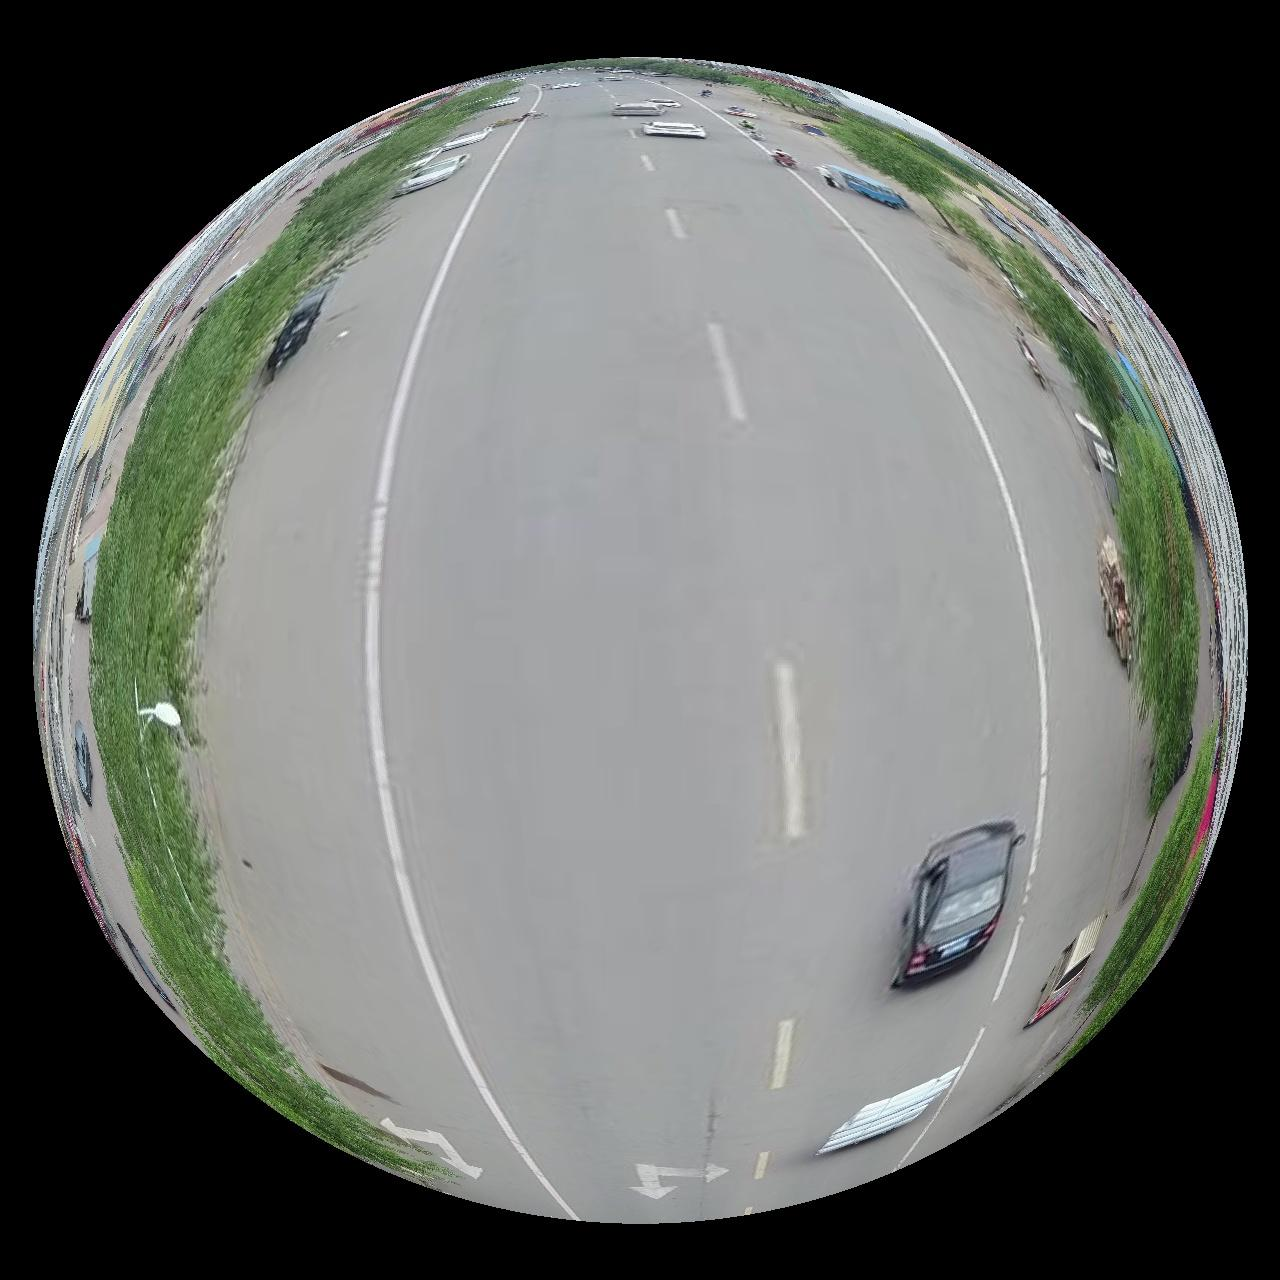cars: (893, 822, 1026, 989), (818, 1069, 962, 1157), (1029, 914, 1107, 1029), (394, 158, 459, 195), (644, 120, 707, 137), (617, 100, 661, 116)
trees: (75, 79, 518, 1182), (1058, 728, 1219, 1069), (1101, 365, 1201, 810)
